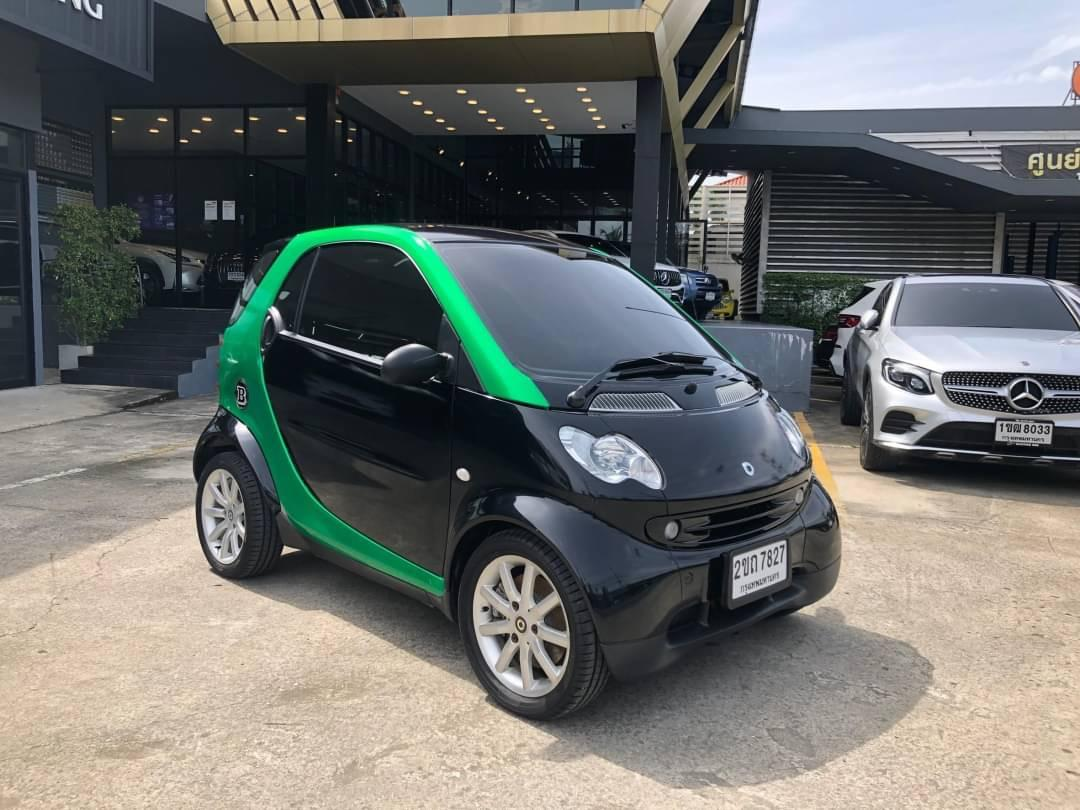license-plate: (726, 533, 791, 610), (993, 417, 1060, 453)
